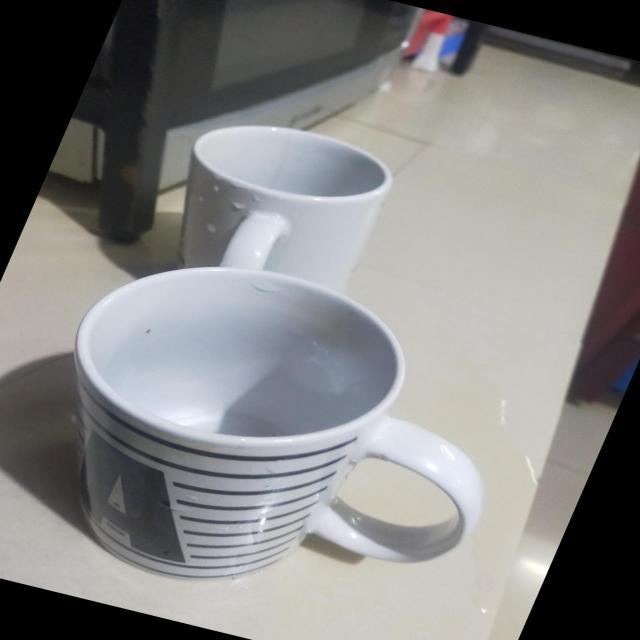taza: (76, 267, 484, 582), (181, 122, 388, 328)
